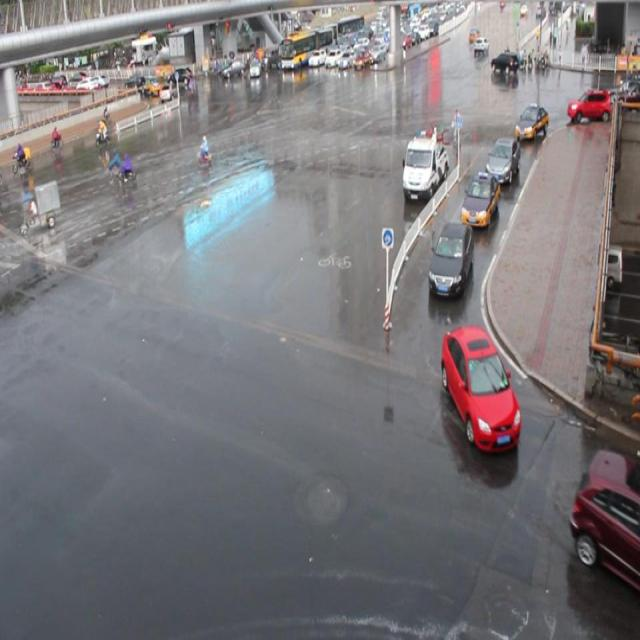bus: (401, 132, 448, 202)
car: (441, 324, 520, 451), (570, 448, 640, 587), (427, 221, 472, 295), (460, 171, 499, 226), (484, 136, 520, 183), (513, 104, 547, 140)
